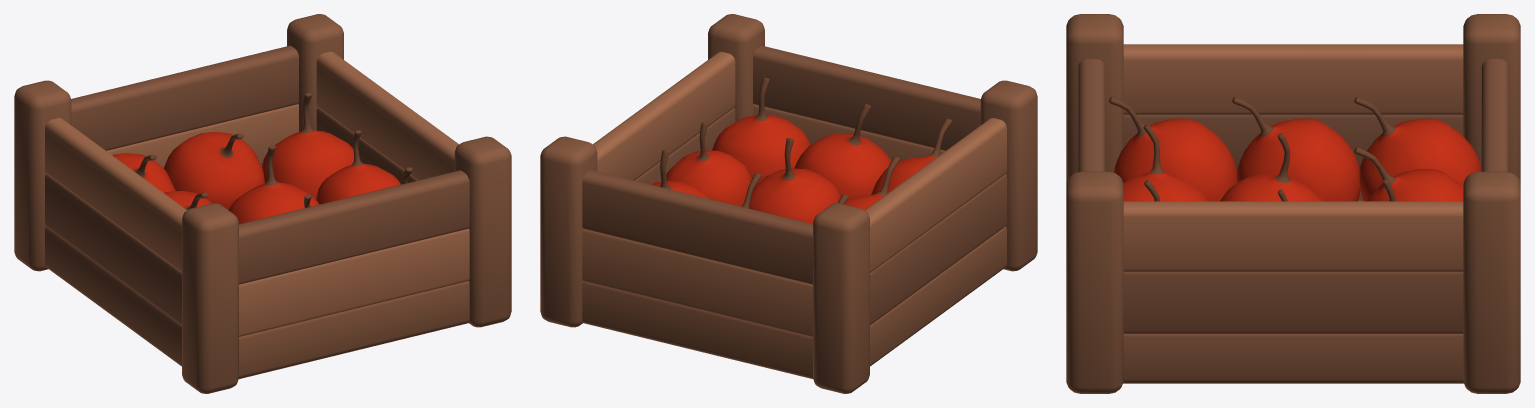
Rendered from prop20.fbx.
3 renders of one model, left to right at view 1: azimuth 30°, elevation 25°; view 2: azimuth 150°, elevation 25°; view 3: azimuth 270°, elevation 25°, orthographic. The views are drawn at different scales.
Visible parts, largest first — view 1: Cube.111; view 2: Cube.111; view 3: Cube.111.
Part boxes in pixels (x1,y1,x2,y2): Cube.111: [14, 14, 511, 393]; Cube.111: [540, 14, 1037, 393]; Cube.111: [1066, 14, 1520, 393].
Size of the model in its own units: 0.8745 by 0.9243 by 0.4643.
